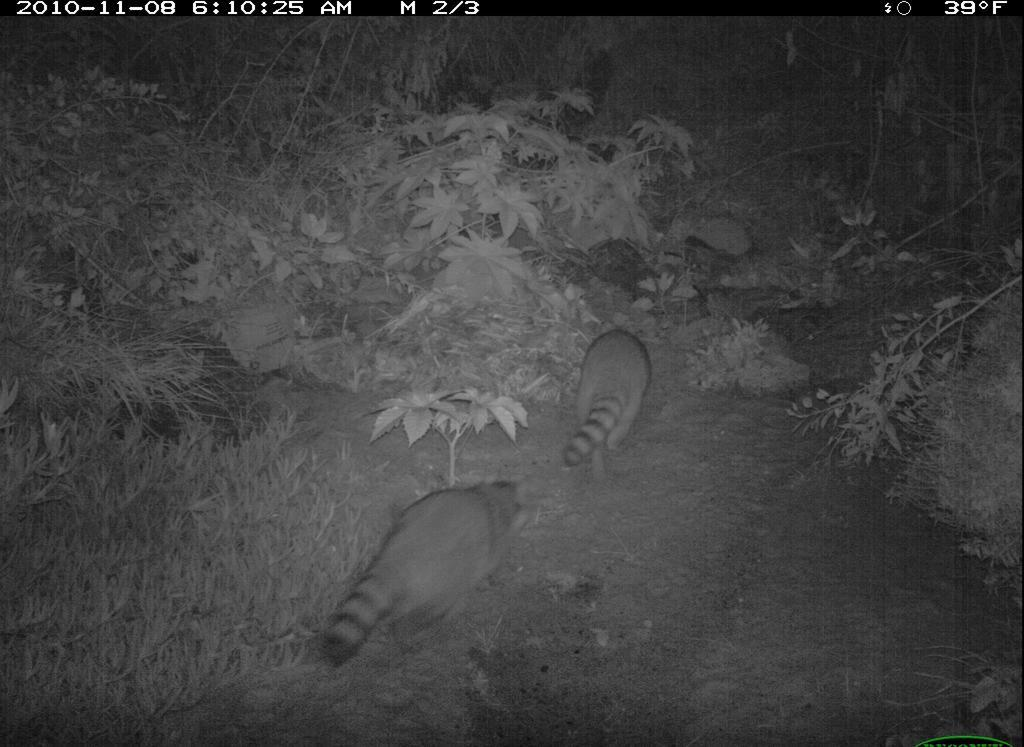raccoon: (312, 468, 536, 717), (539, 294, 688, 489)
